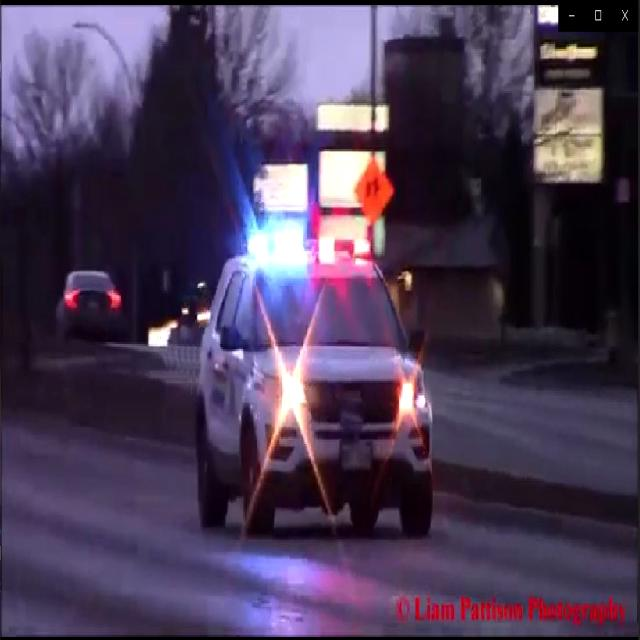emergency: (193, 205, 437, 521)
